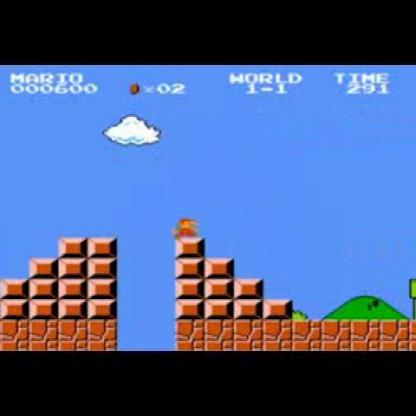Hoyo: (111, 318, 178, 352)
